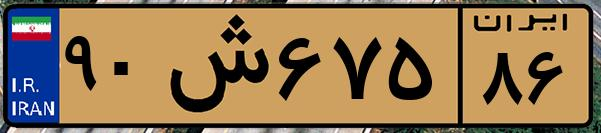0: (110, 28, 158, 98)
5: (385, 28, 445, 110)
6: (270, 28, 330, 110), (525, 38, 570, 115)
7: (330, 28, 385, 110)
8: (475, 38, 525, 113)
9: (57, 26, 110, 100)
ش: (158, 12, 270, 120)
